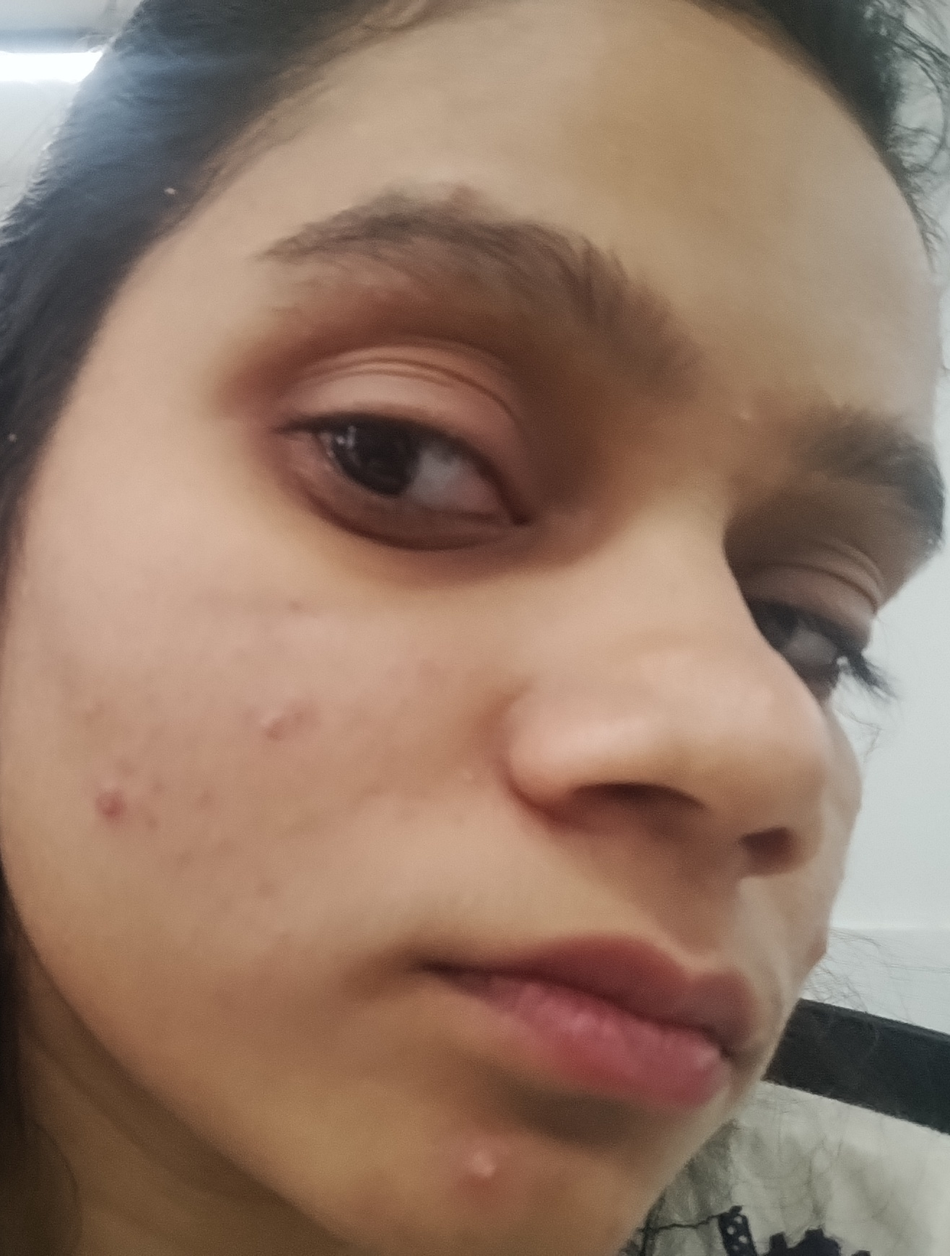papule: (230, 686, 349, 781)
pustule: (69, 773, 135, 856), (448, 1140, 533, 1202)
